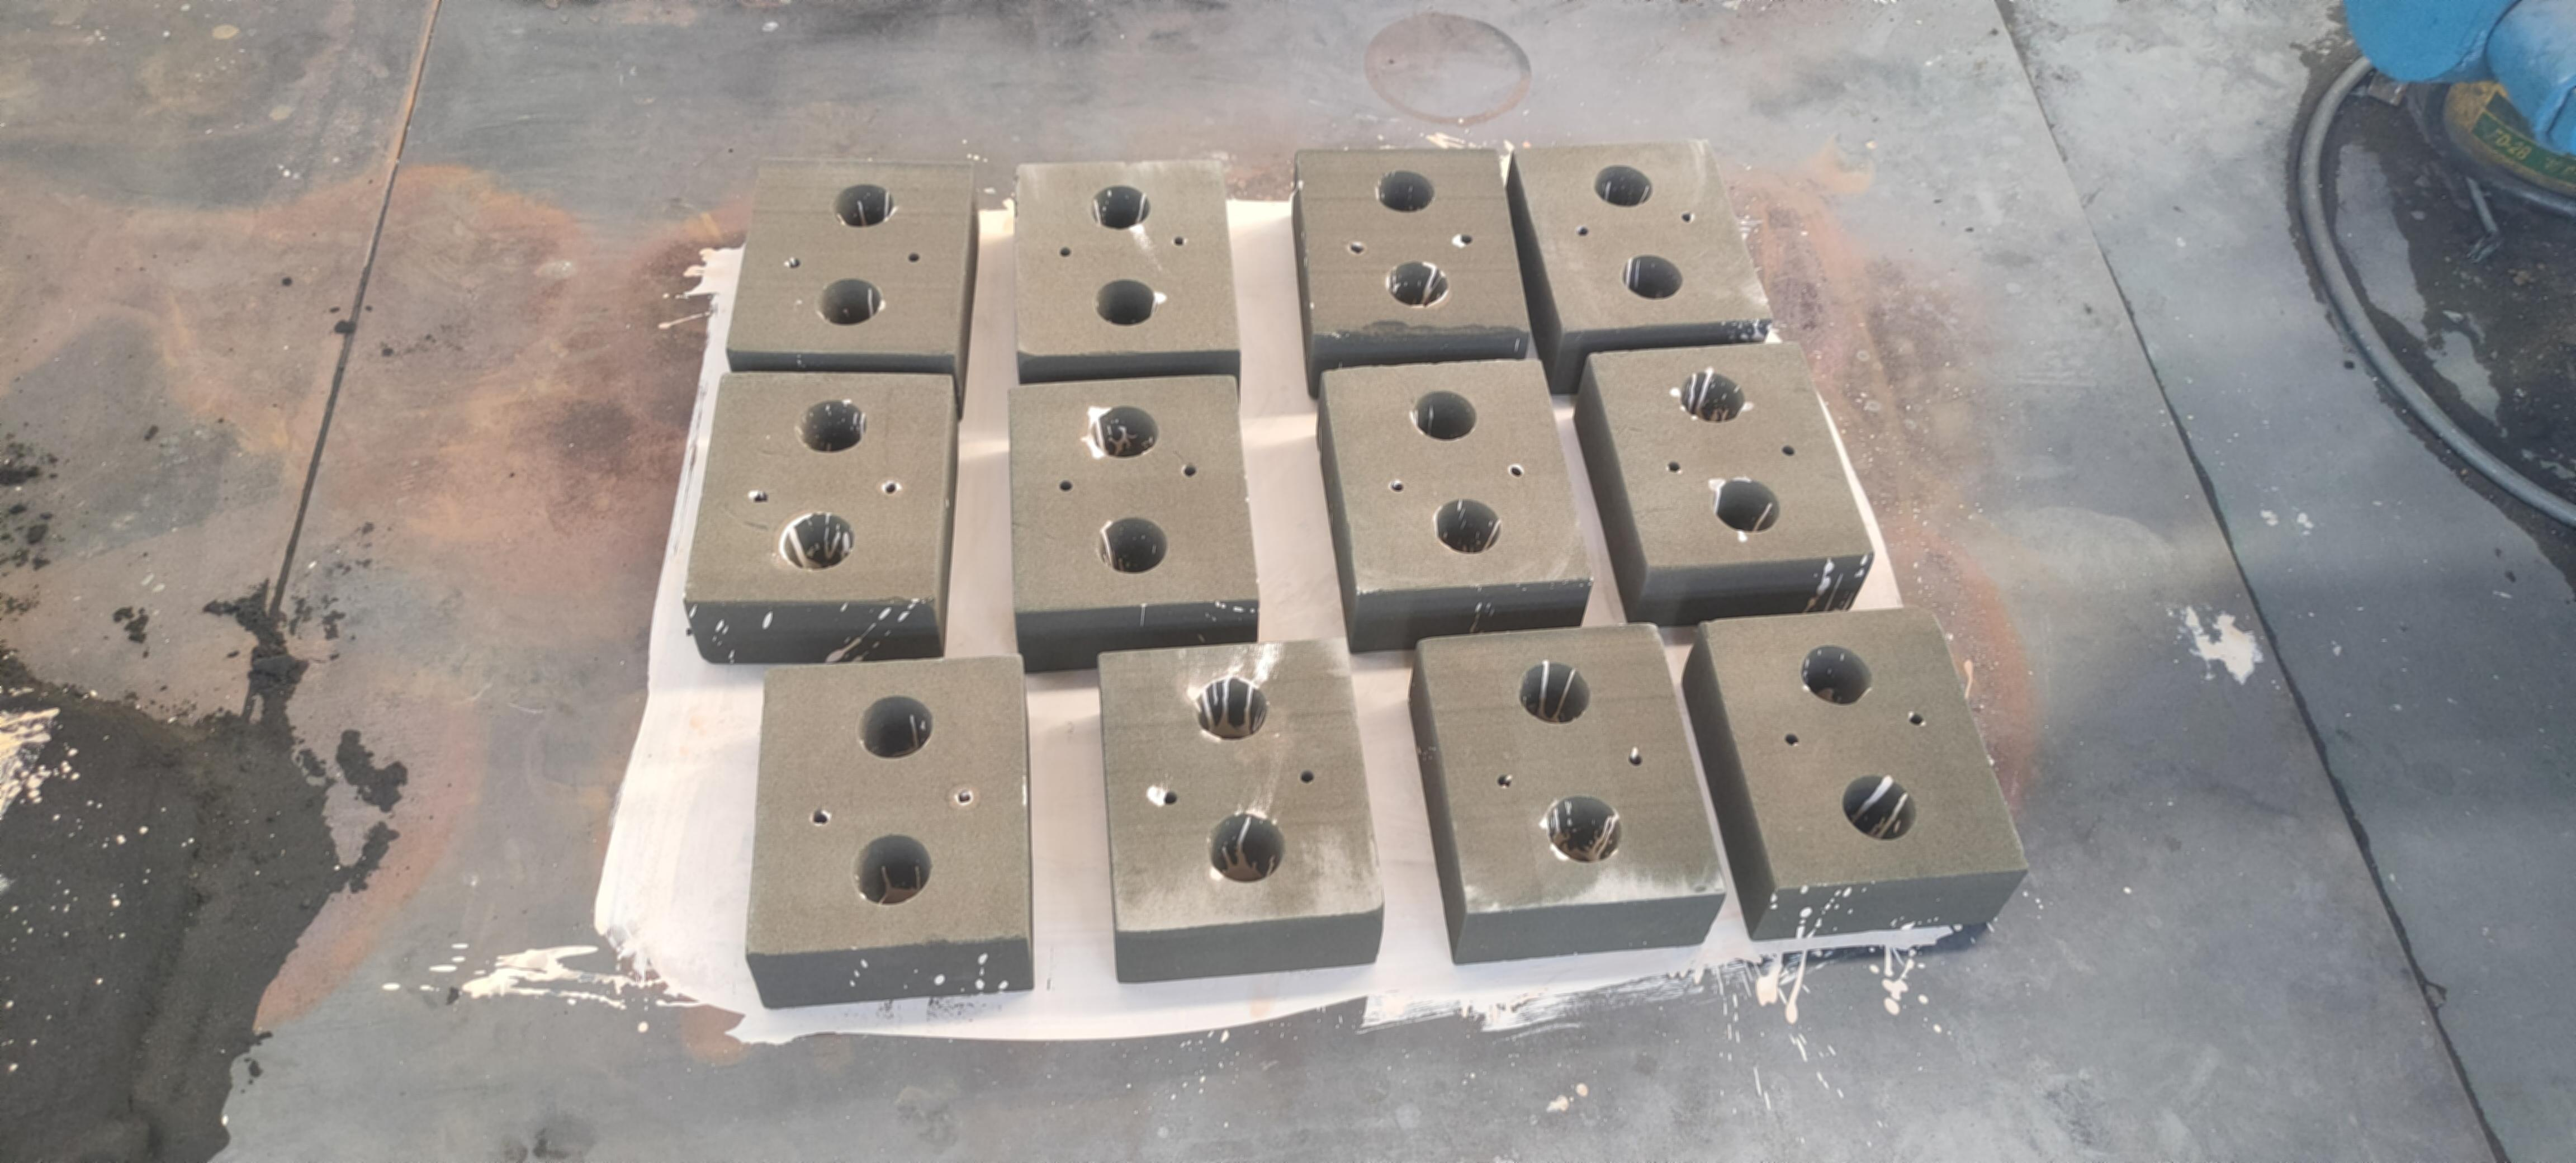pouring hole: (1203, 810, 1288, 884), (1544, 793, 1628, 867), (849, 831, 935, 903), (1189, 673, 1270, 742), (1842, 770, 1916, 841), (856, 693, 935, 759), (1797, 644, 1876, 710), (1518, 659, 1594, 726), (775, 509, 856, 570), (1093, 513, 1170, 573), (1431, 496, 1505, 555), (1710, 476, 1783, 534), (795, 398, 866, 453), (1677, 368, 1748, 424), (1089, 406, 1160, 458), (813, 276, 882, 327), (1410, 389, 1479, 440), (1385, 258, 1449, 307), (1620, 253, 1684, 301), (1088, 184, 1153, 230), (833, 182, 895, 228), (1094, 279, 1157, 325), (1373, 169, 1436, 214), (1594, 163, 1654, 207)
